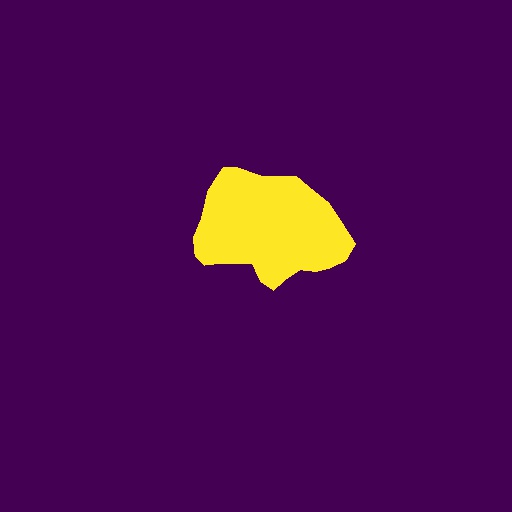Gliomia_tumour: (193, 167, 356, 291)
